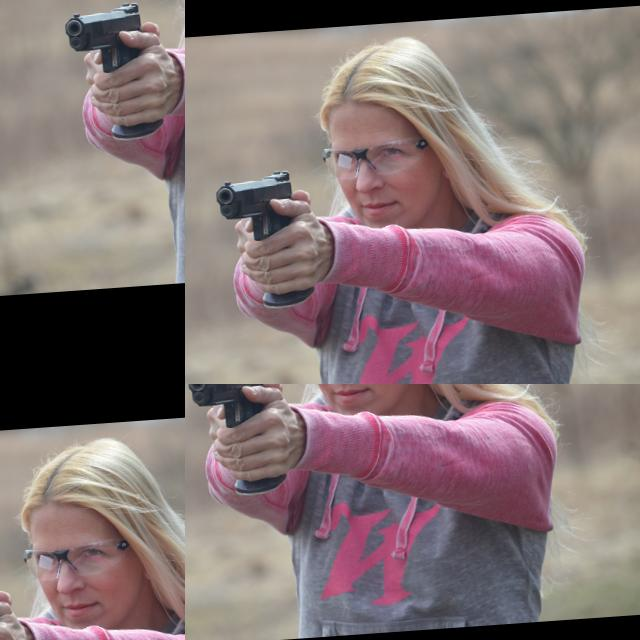handgun: (185, 384, 269, 430), (185, 118, 219, 205), (0, 455, 43, 511), (0, 0, 65, 30), (303, 204, 329, 264), (460, 86, 490, 100)
